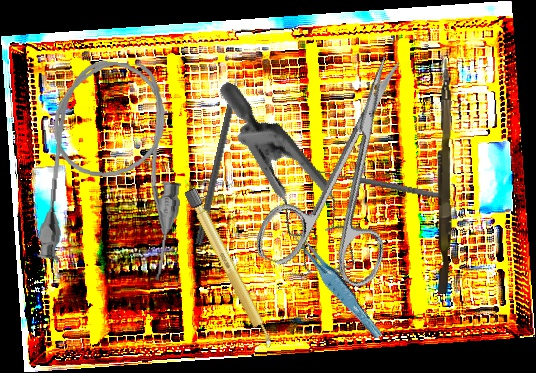Cannula: (35, 56, 192, 282)
Hook Surgical: (195, 63, 246, 246), (309, 166, 448, 206)
Iris Scissors: (250, 37, 454, 300)
Pusher: (433, 58, 455, 294)
Scalpel Handle: (182, 186, 277, 352)
Speculum: (158, 80, 404, 300)
Tissue Forceps: (289, 222, 384, 346)
